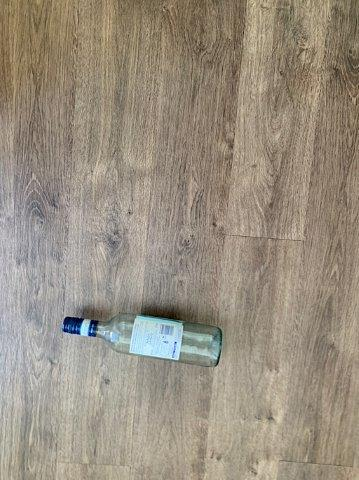botolkaca: (63, 315, 221, 367)
